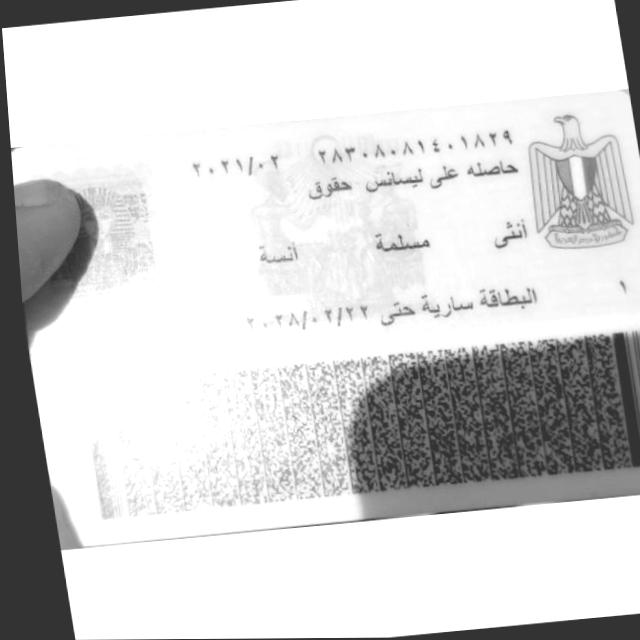back: (11, 92, 640, 543)
